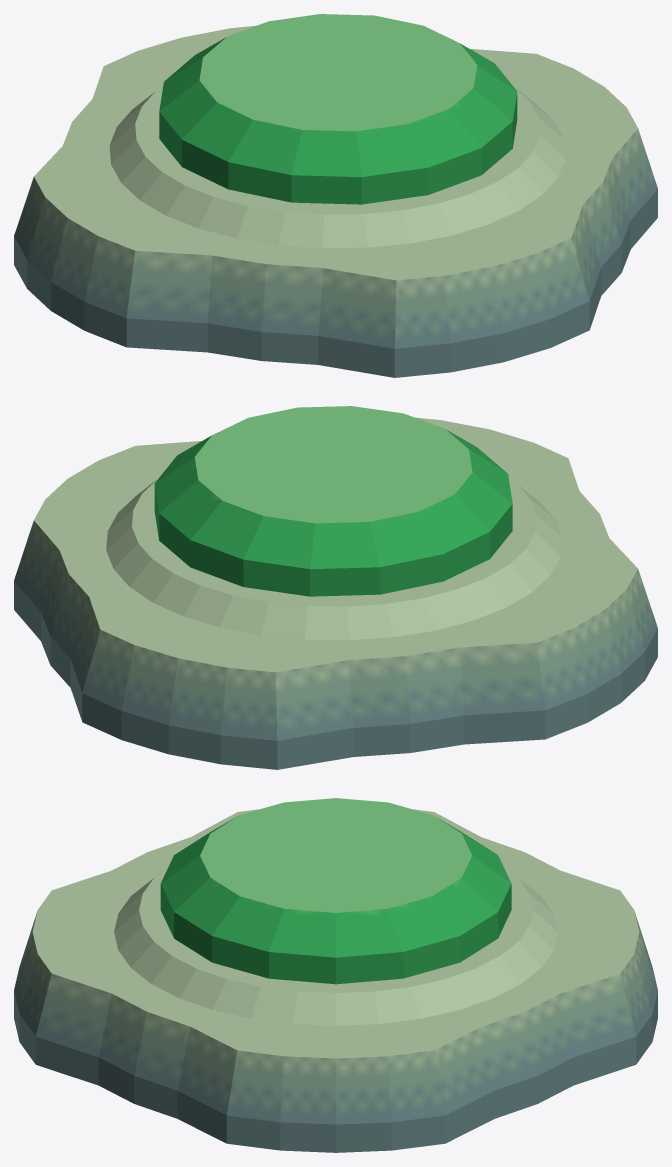
The model's file is button_green.fbx.
The picture shows the model from 3 angles, top to bottom: view 1: azimuth 30°, elevation 25°; view 2: azimuth 150°, elevation 25°; view 3: azimuth 270°, elevation 25°; orthographic projection. The views are drawn at different scales.
Parts seen in each view (by area): view 1: button; view 2: button; view 3: button.
Boxes of the visible parts, x1,y1,x2,y2 form: button: (14, 14, 657, 377); button: (14, 406, 657, 769); button: (14, 798, 657, 1152).
Bounding box in the file's own units: 148 × 41.69 × 149.
Materials: 1 (1 with a texture image).
